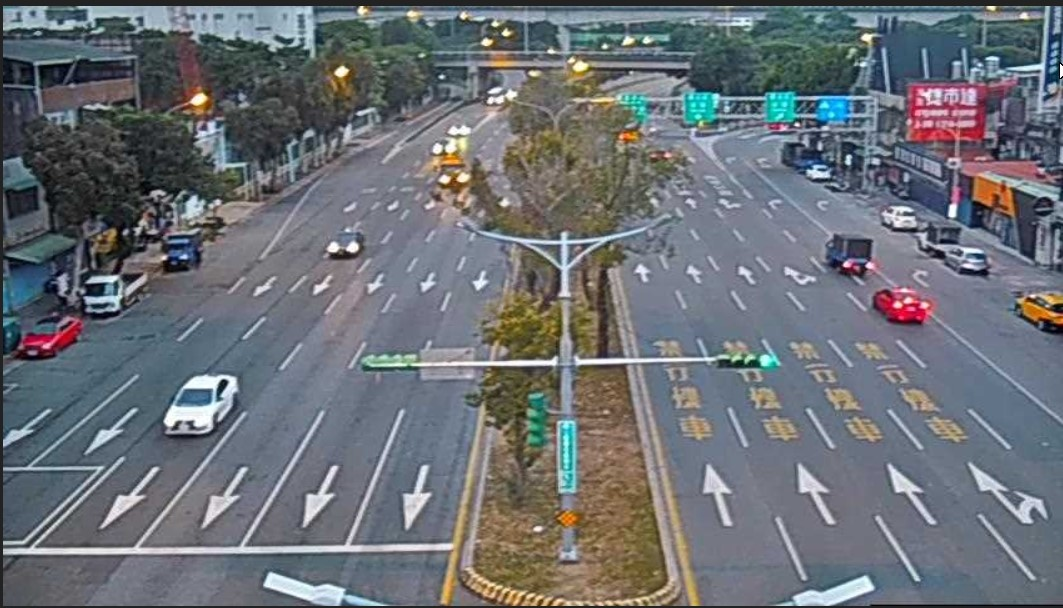Business Passenger Car: (1015, 274, 1063, 331)
Private Passenger Car: (159, 368, 237, 438), (861, 274, 931, 328), (19, 308, 83, 362), (825, 232, 877, 284), (319, 226, 365, 262), (951, 244, 989, 276), (881, 202, 917, 230)
